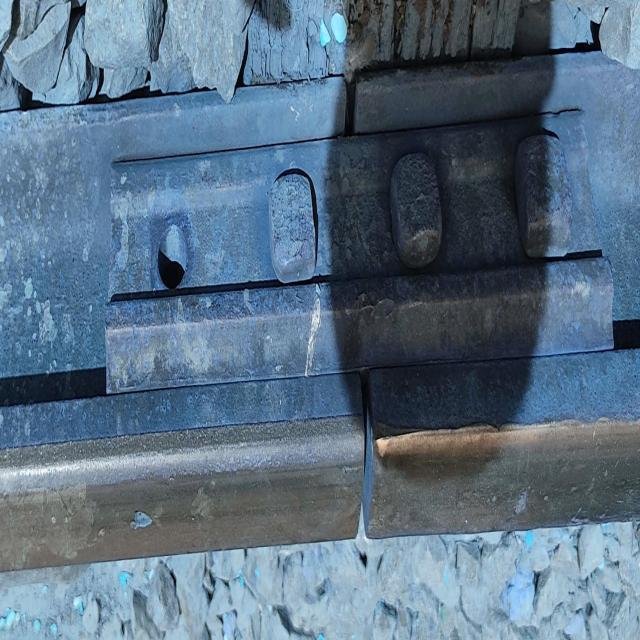Defective Joint: (103, 102, 617, 397)
